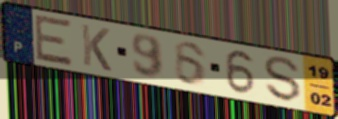6: (172, 41, 209, 87), (223, 49, 257, 97)
9: (129, 32, 165, 81)
E: (34, 13, 75, 68)
K: (79, 22, 113, 74)
S: (262, 55, 304, 104)
